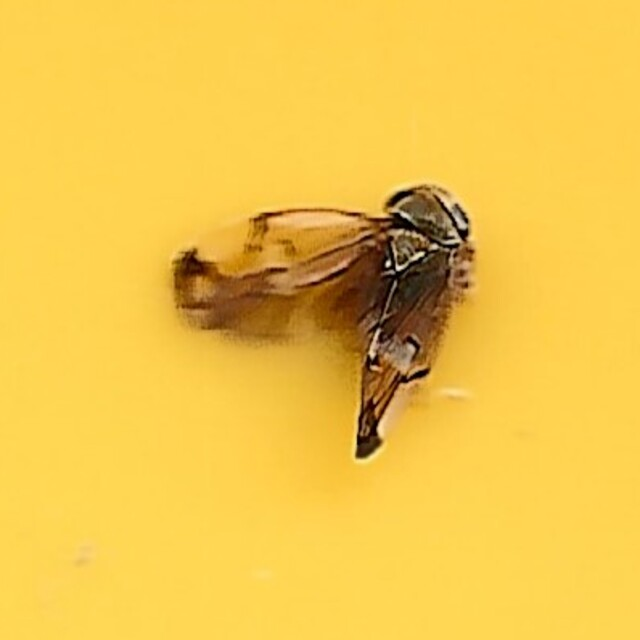Hemiptera: (161, 177, 479, 463)
